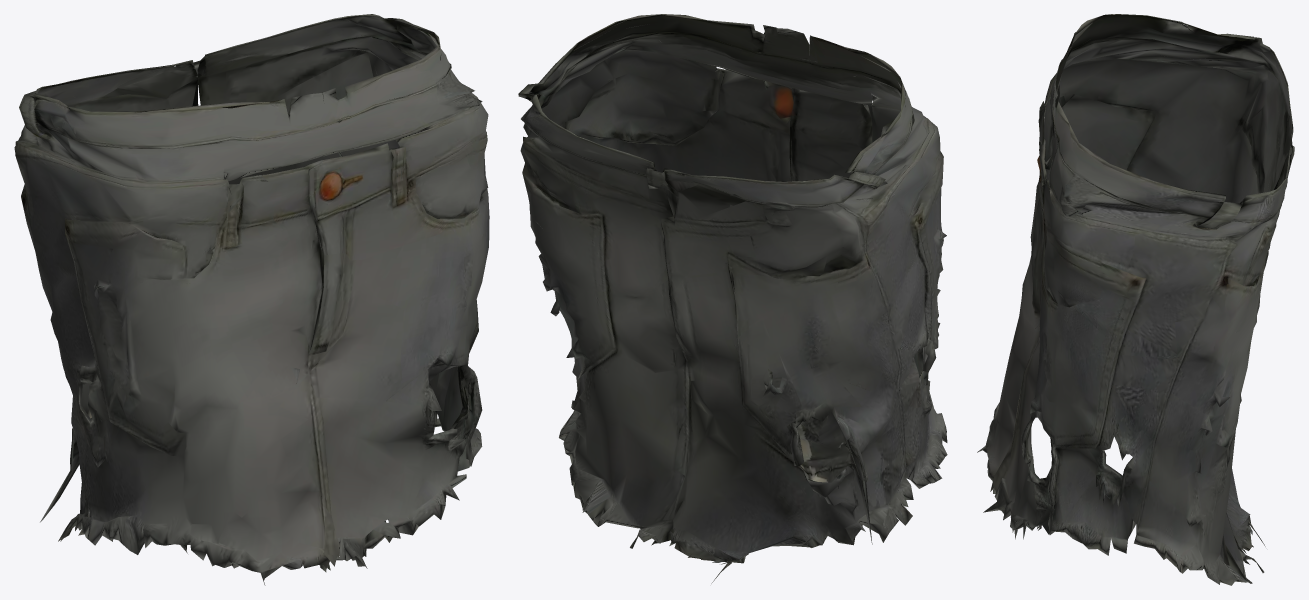
3 views of the same model, side by side, from view 1: azimuth 30°, elevation 25°; view 2: azimuth 150°, elevation 25°; view 3: azimuth 270°, elevation 25° (orthographic). The views are drawn at different scales.
Parts seen in each view (by area): view 1: Roupa_010; view 2: Roupa_010; view 3: Roupa_010.
Boxes of the visible parts, left/top/right/bottom form: Roupa_010: left=14, top=14, right=489, bottom=585; Roupa_010: left=518, top=14, right=947, bottom=583; Roupa_010: left=977, top=14, right=1294, bottom=585.
Size of the model in its own units: 0.3646 by 0.4525 by 0.2691.
Materials: 1 (1 with a texture image).
